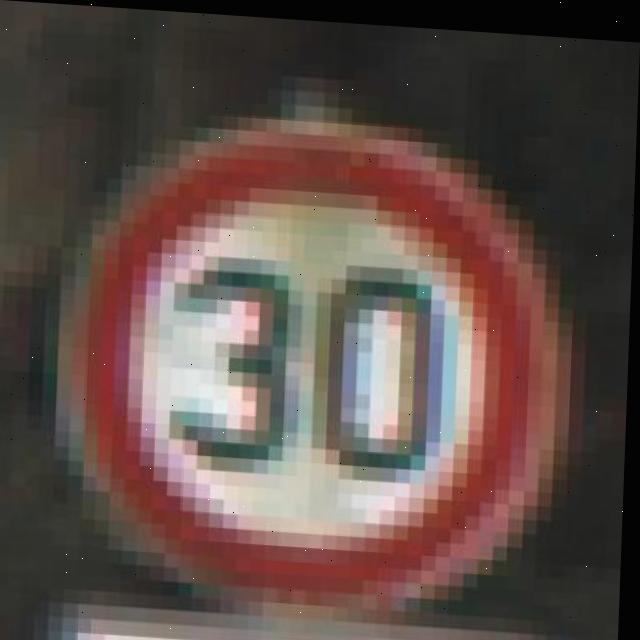Speed limit 30: (76, 96, 583, 613)
